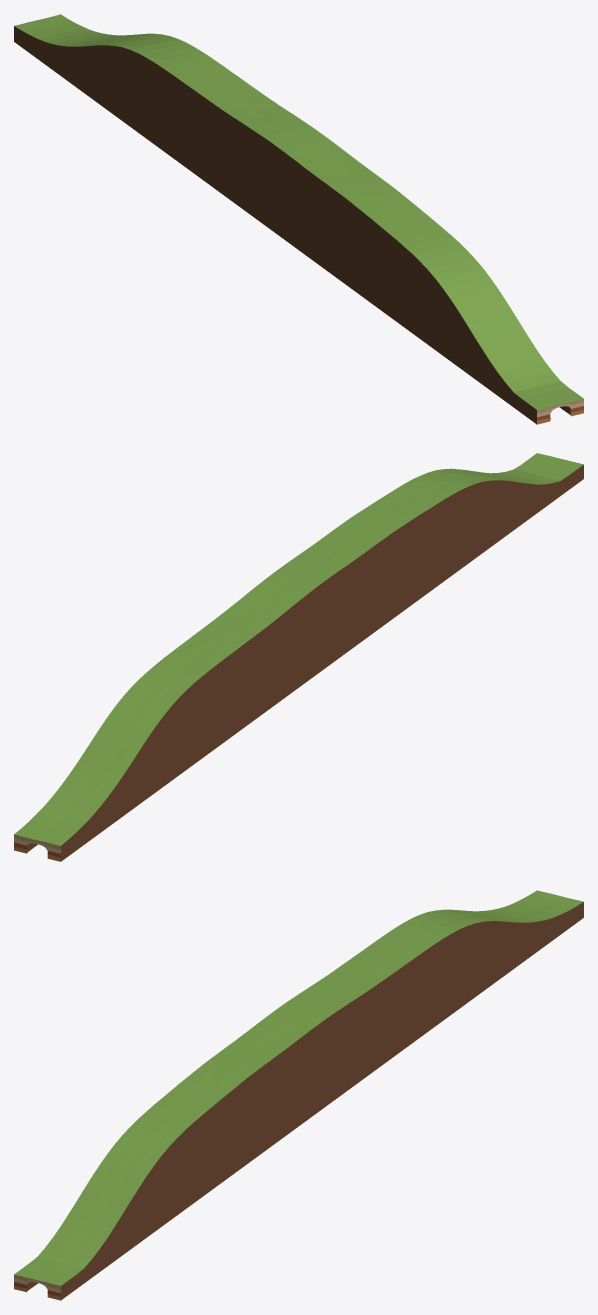
The model's file is tunel_04p.glb.
The picture shows the model from 3 angles, top to bottom: view 1: azimuth 30°, elevation 25°; view 2: azimuth 150°, elevation 25°; view 3: azimuth 330°, elevation 25°; orthographic projection.
Parts seen in each view (by area): view 1: tunel_04p; view 2: tunel_04p; view 3: tunel_04p.
Part boxes in pixels (x1=…): tunel_04p: x1=14, y1=14, x2=583, y2=424; tunel_04p: x1=14, y1=453, x2=583, y2=861; tunel_04p: x1=14, y1=890, x2=583, y2=1300.
Bounding box in the file's own units: 84 × 150 × 1624.
